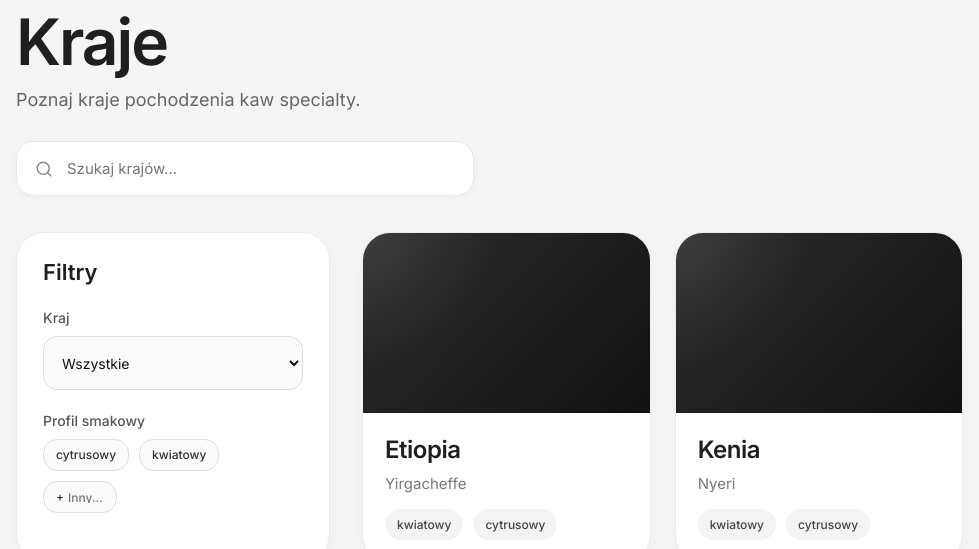
Regions › filters countries by search query
Check: the heading "Etiopia" is shown, box x1=385 y1=435 x2=460 y2=464
Type "Kenia" into the field with placeholder "Szukaj krajów..." at x=260, y=168, box x1=65 y1=158 x2=455 y2=179
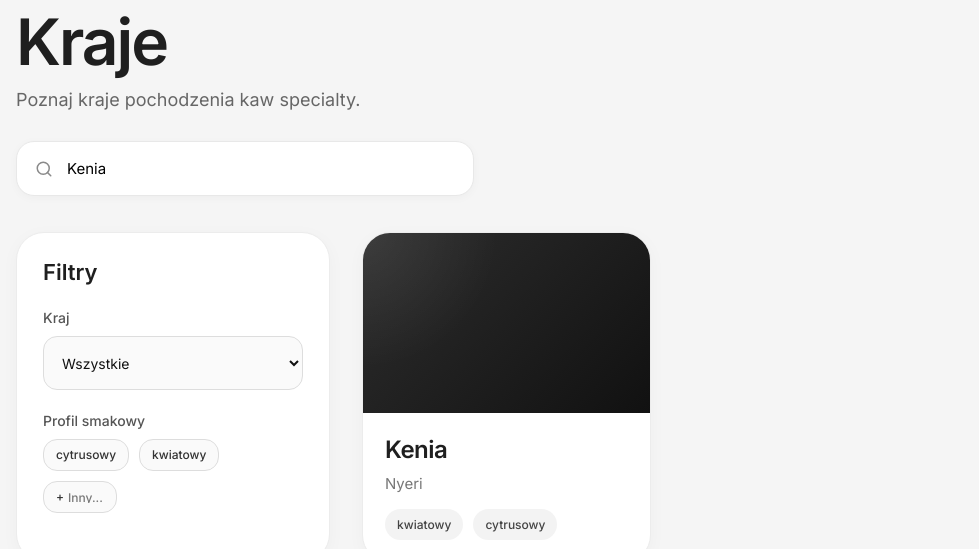
Check: the heading "Kenia" is shown, box x1=385 y1=435 x2=447 y2=464
Check: the heading "Etiopia" is gone
